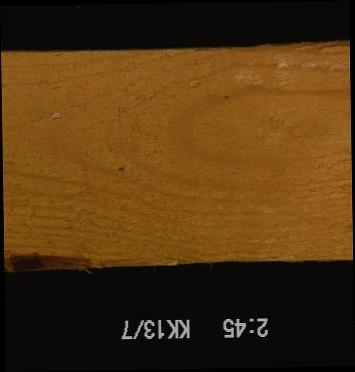small_knot: (116, 163, 126, 175)
wave: (6, 251, 93, 272)
